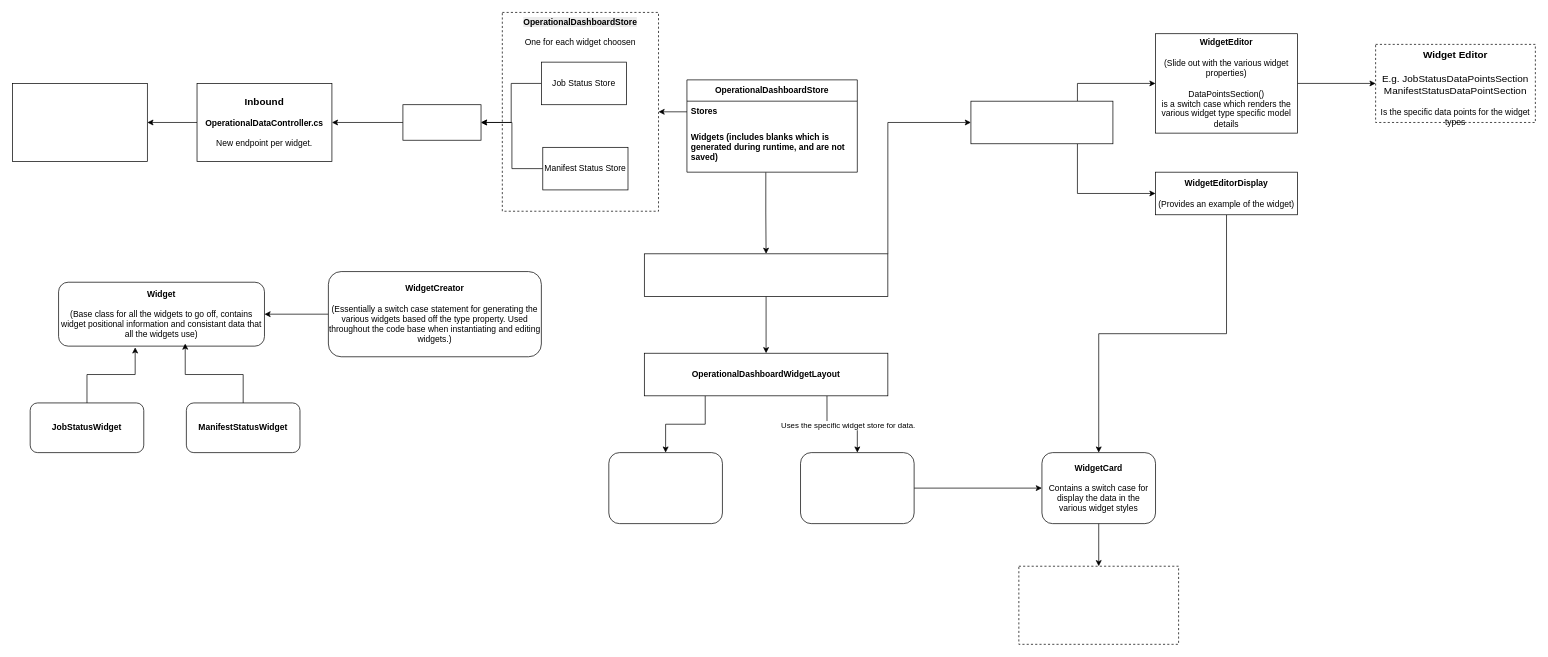
This 1548x657 diagram has some shape labels left out. The centre of each missing label's shape, as x and y in pixels:
"Blank Widget Is a drop target, and when clicked opens the Widget editor" belongs at (x=665, y=488).
"Database Stored procedure file per widget" belongs at (x=79, y=122).
"Draggable Widget Is a drag source" belongs at (x=857, y=488).
"OperationalApi" belongs at (x=441, y=122).
"OperationalDashboardPage" belongs at (x=766, y=274).
"Widget styles E.g. Table widget PieChart etc." belongs at (x=1098, y=605).
"WidgetEditor" belongs at (x=1041, y=122).
